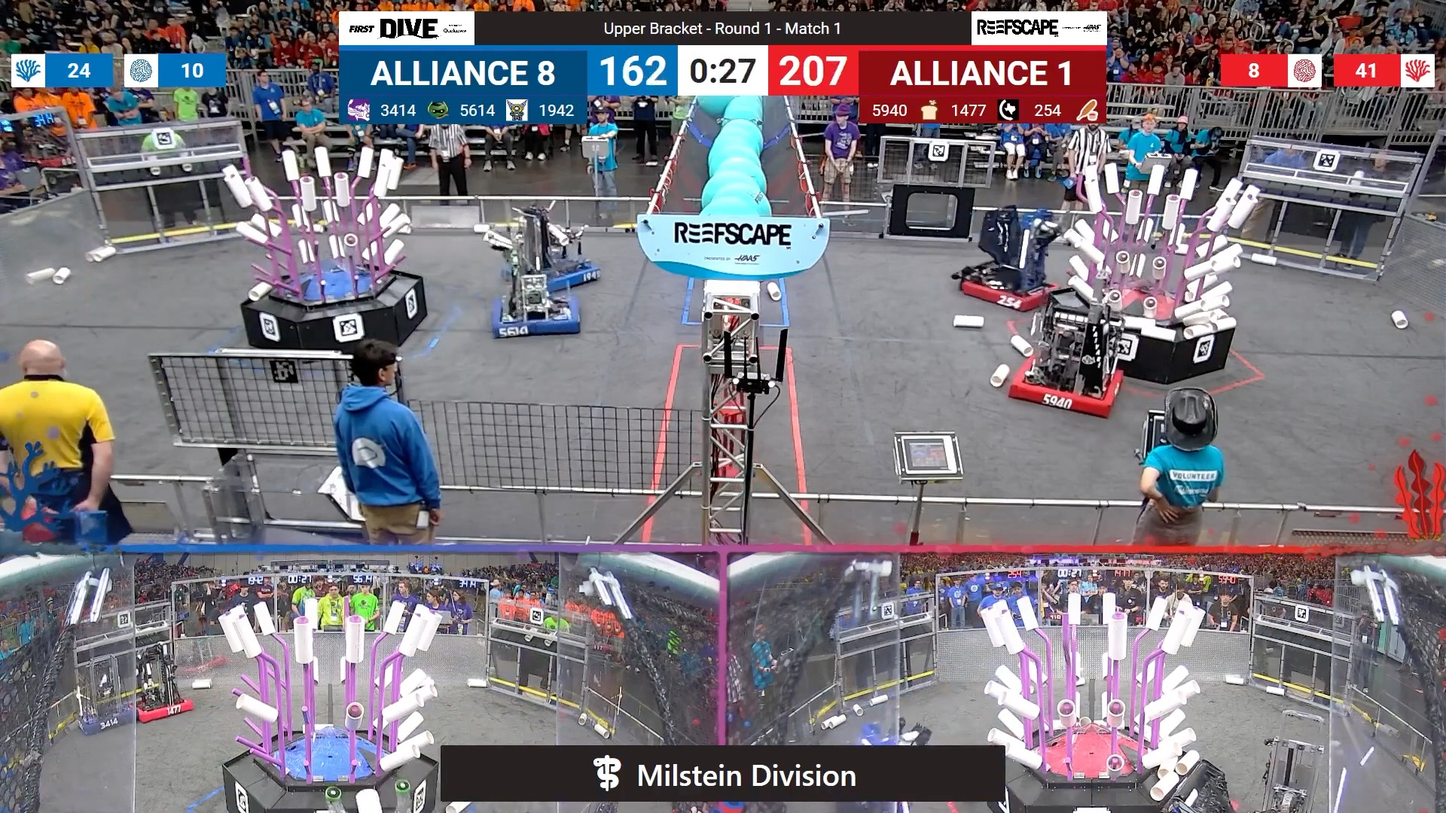bumpers: (1000, 348, 1129, 420), (956, 263, 1076, 313), (481, 289, 584, 343), (498, 254, 609, 295), (121, 690, 202, 728), (77, 701, 134, 738)
